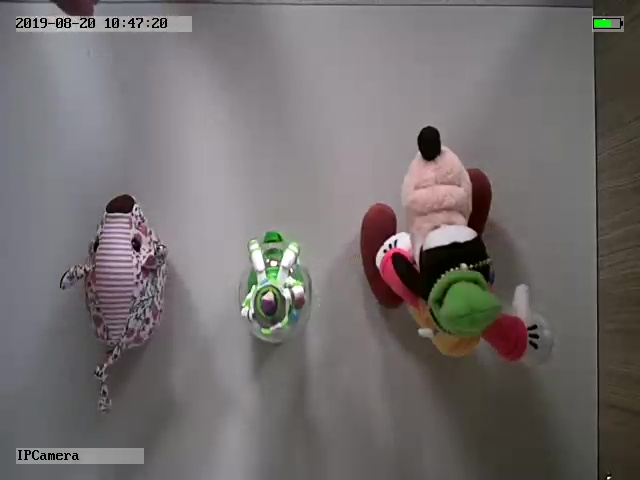buzz: (233, 231, 315, 347)
goofy: (356, 123, 555, 367)
pig: (57, 192, 170, 415)
